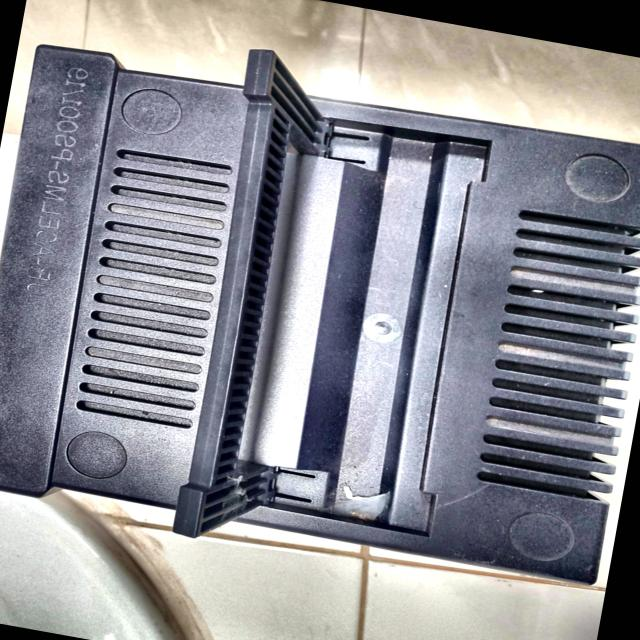Teslameter PS: (0, 0, 640, 606)
